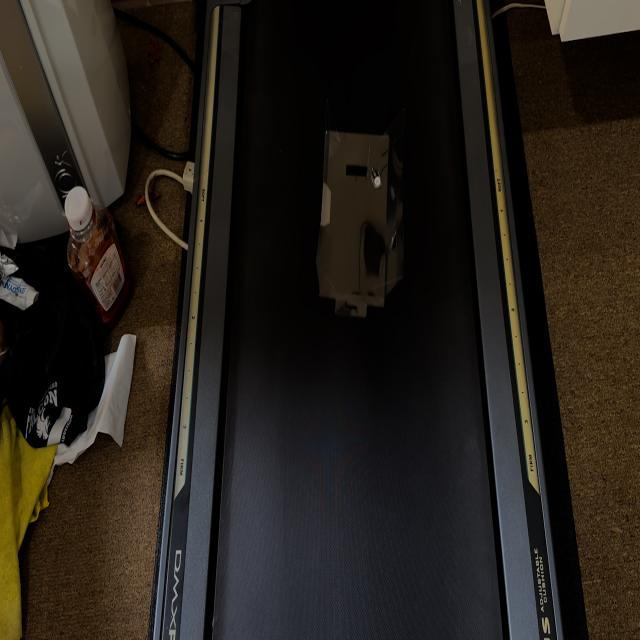Recycle: (314, 94, 407, 334)
